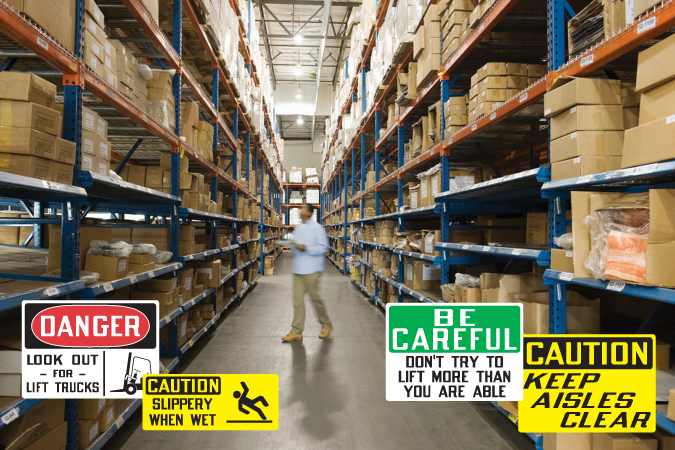noepi: (279, 202, 334, 342)
